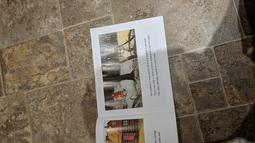text block: (140, 29, 163, 97), (151, 128, 165, 142)
